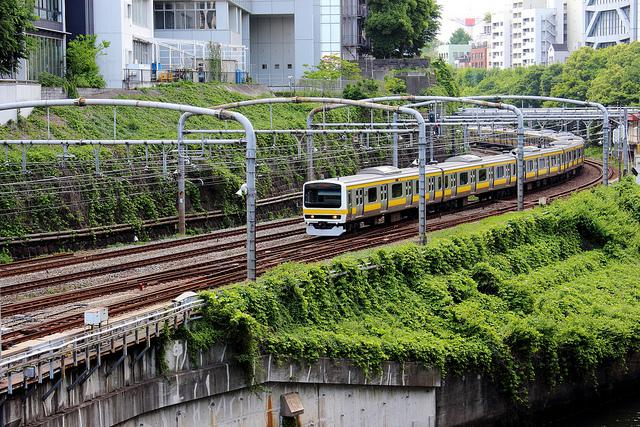Train: (306, 126, 587, 240)
